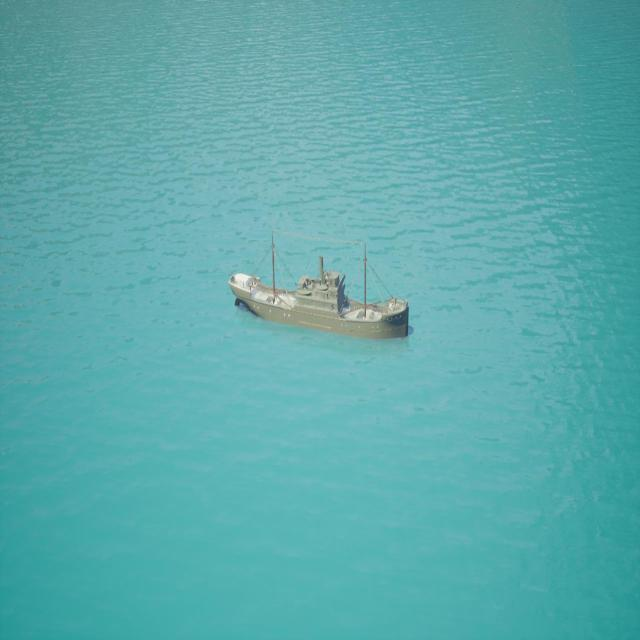fishing ship: (229, 226, 411, 345)
